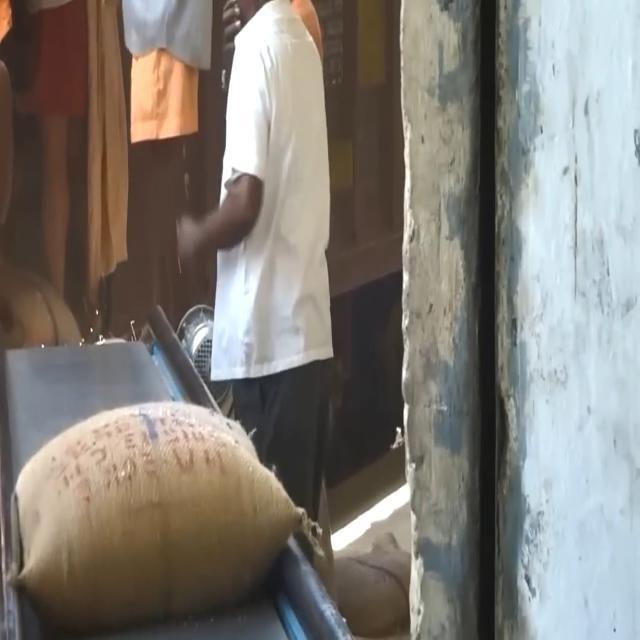gunny_bag: (5, 393, 305, 640)
